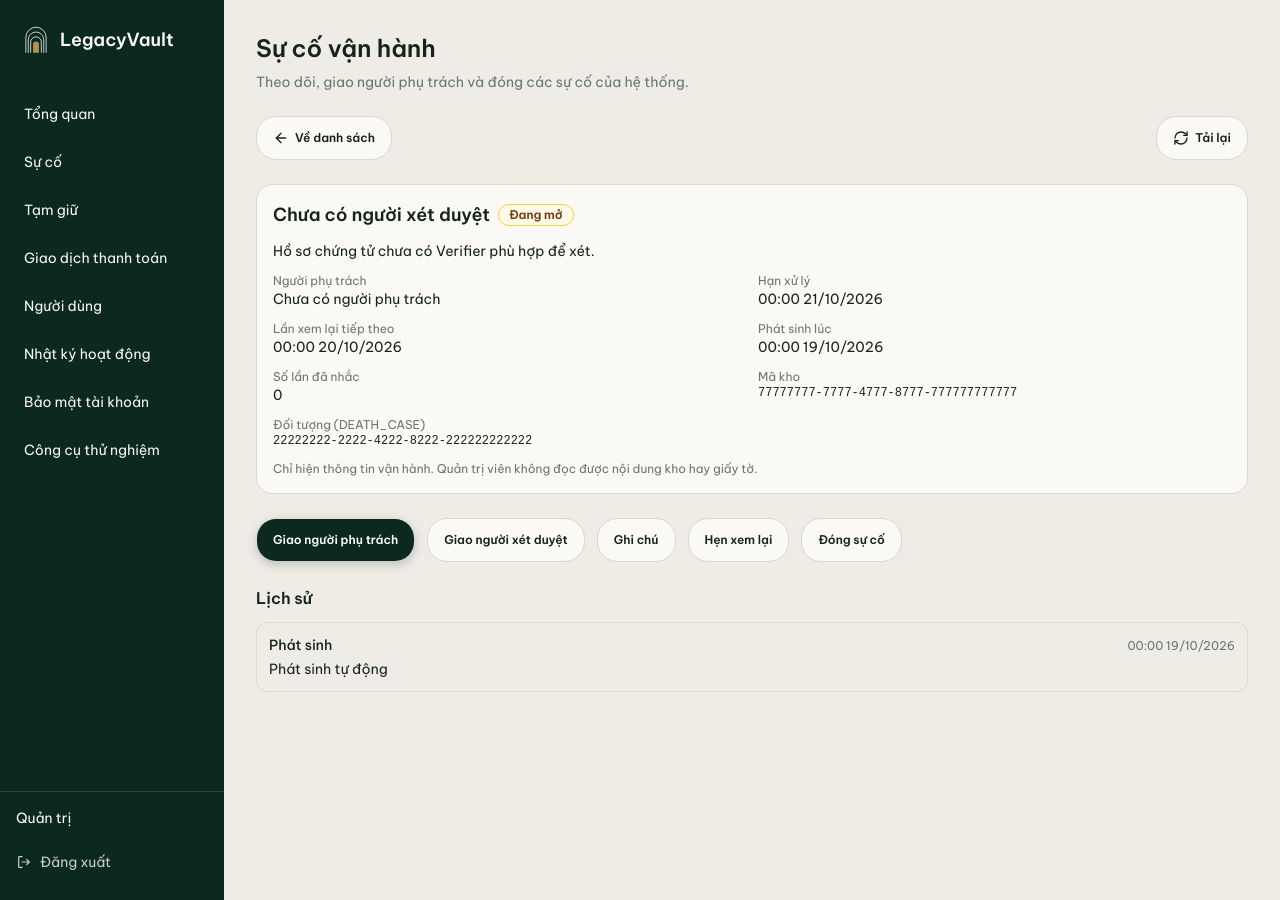
Test: Sự cố › giữ hộp thoại và báo lý do riêng khi sự cố đã được xử lý ở nơi khác
The width and height of the screenshot is (1280, 900).
Click the button "Đóng sự cố" at [852, 540], box x1=801 y1=518 x2=902 y2=562
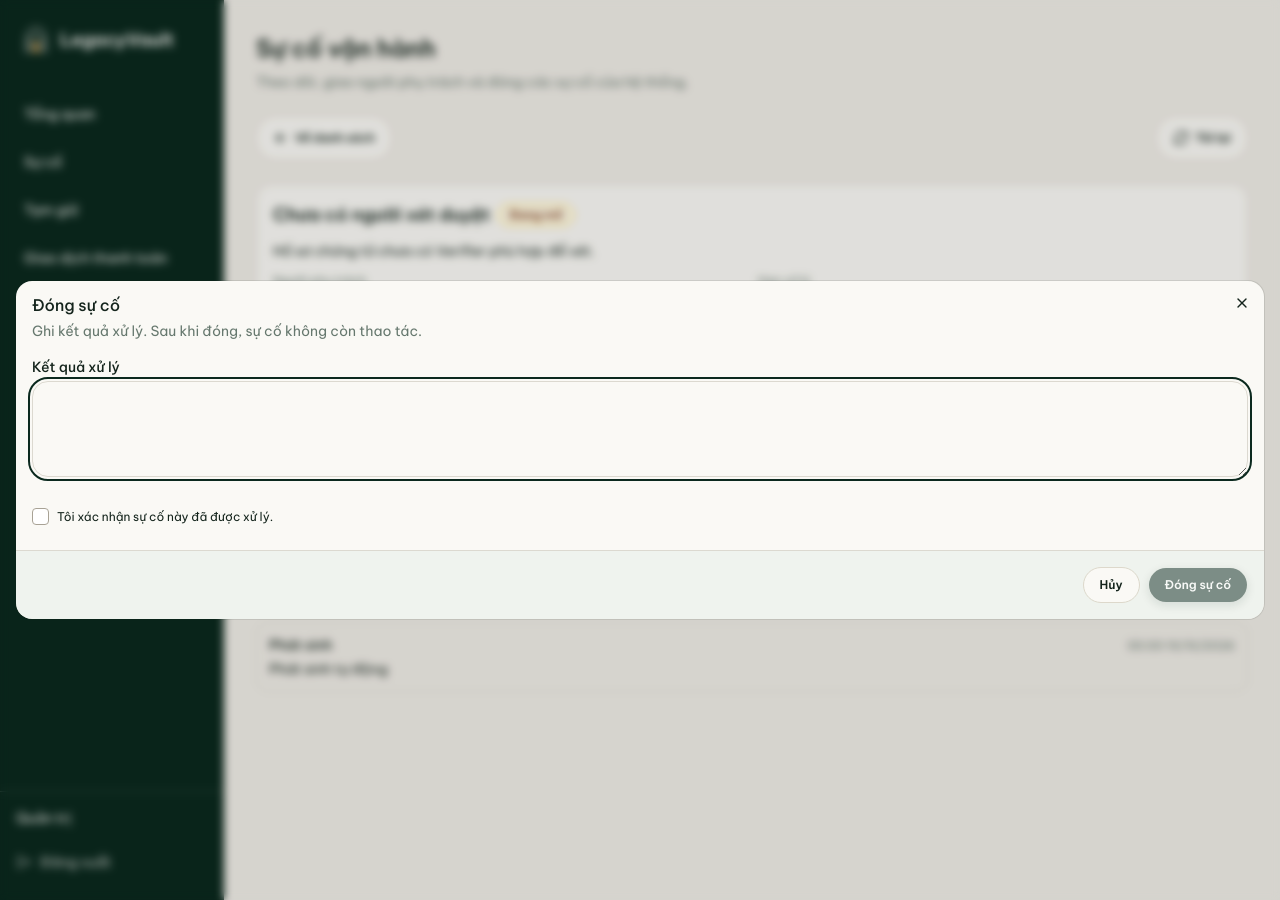
Type "Xong" into the text box labelled "Kết quả xử lý" at [640, 429], box x1=32 y1=381 x2=1248 y2=477
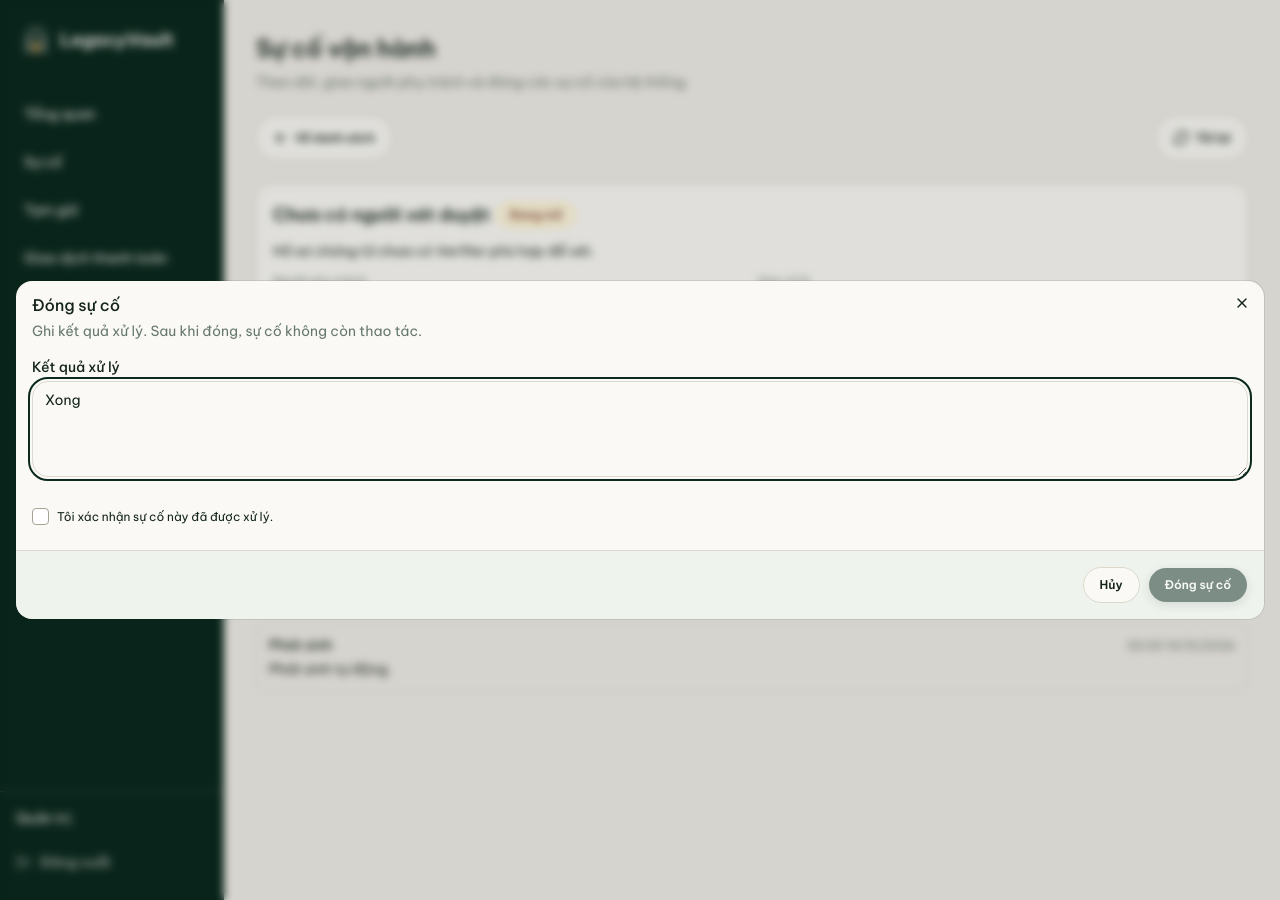
Click the checkbox at [40, 516], box x1=32 y1=508 x2=49 y2=525
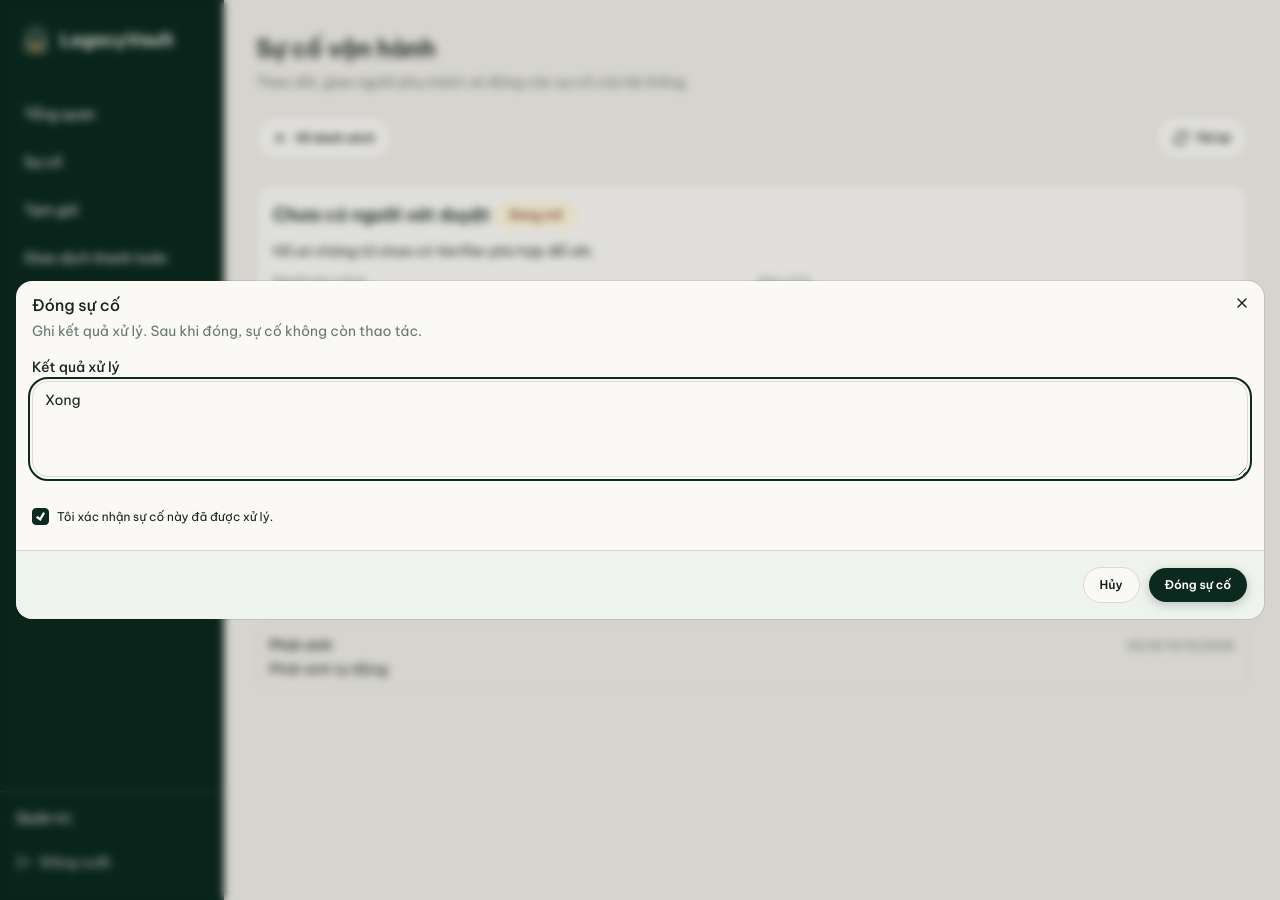
Click the button "Đóng sự cố" at [1198, 585], box x1=1148 y1=567 x2=1248 y2=603
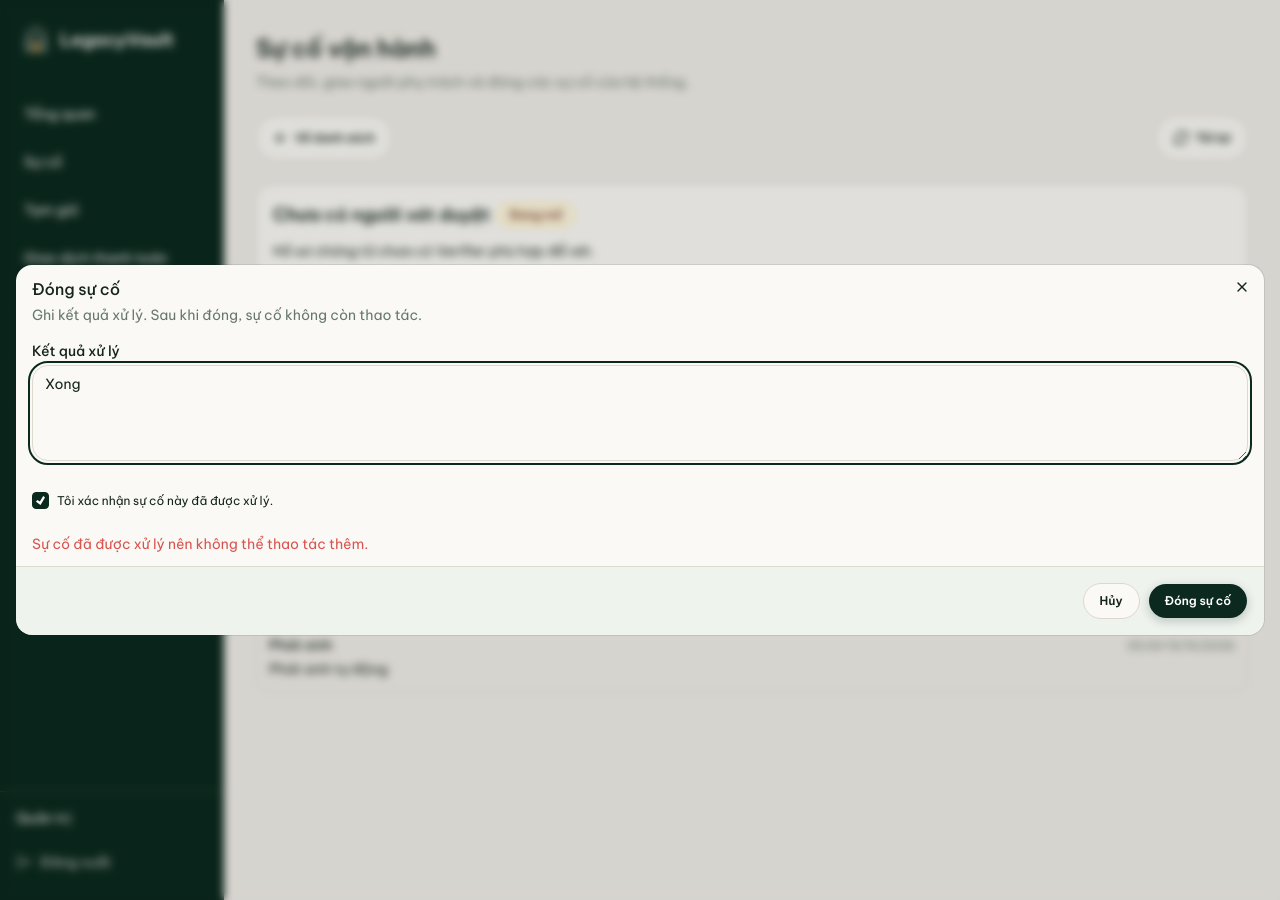
Expected: the dialog is shown, x1=16 y1=265 x2=1264 y2=635
Expected: the message reads "Sự cố đã được xử lý nên không thể thao tác thêm.", x1=32 y1=535 x2=368 y2=553
